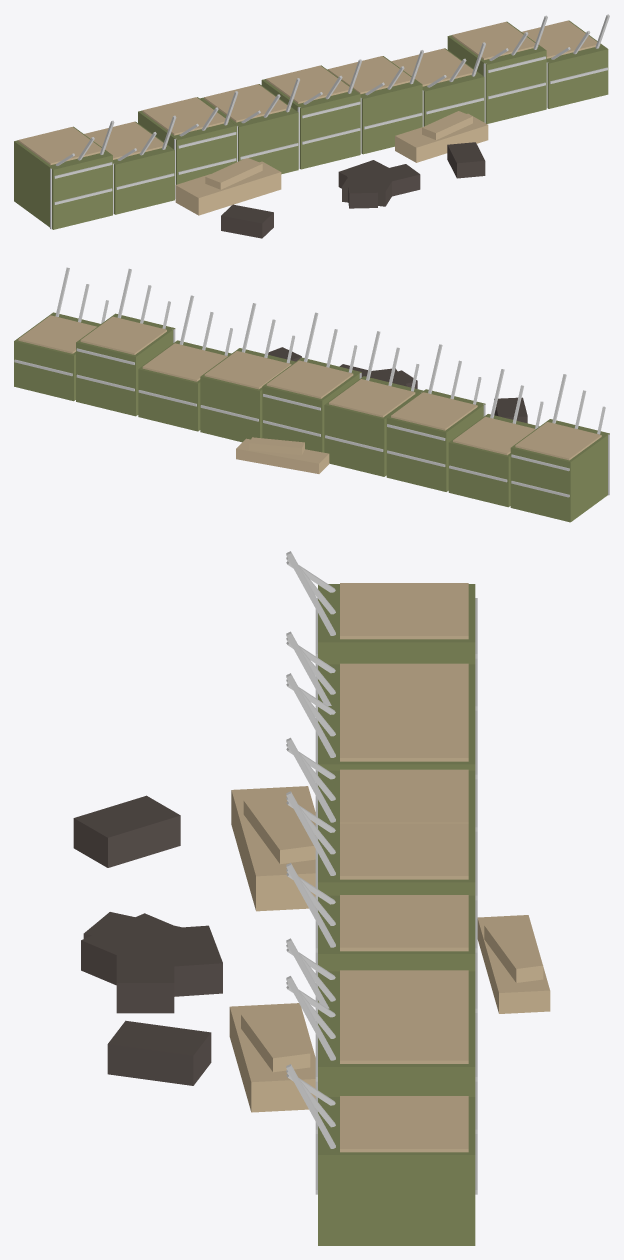
File: SM_MuroHesco_v2_Escalonado_e2_MuyDanado_LOD0.fbx
3 renders of one model, top to bottom at view 1: azimuth 30°, elevation 25°; view 2: azimuth 150°, elevation 25°; view 3: azimuth 270°, elevation 25°, orthographic. The views are drawn at different scales.
Visible parts, largest first — view 1: SM_bloques.muro_hesco_estados_v10_LOD0; view 2: SM_bloques.muro_hesco_estados_v10_LOD0; view 3: SM_bloques.muro_hesco_estados_v10_LOD0.
Part boxes in pixels (x1=…): SM_bloques.muro_hesco_estados_v10_LOD0: x1=14, y1=14, x2=609, y2=238; SM_bloques.muro_hesco_estados_v10_LOD0: x1=14, y1=267, x2=609, y2=522; SM_bloques.muro_hesco_estados_v10_LOD0: x1=73, y1=551, x2=550, y2=1245.
Size of the model in its own units: 9.98 by 1.75 by 3.7.
